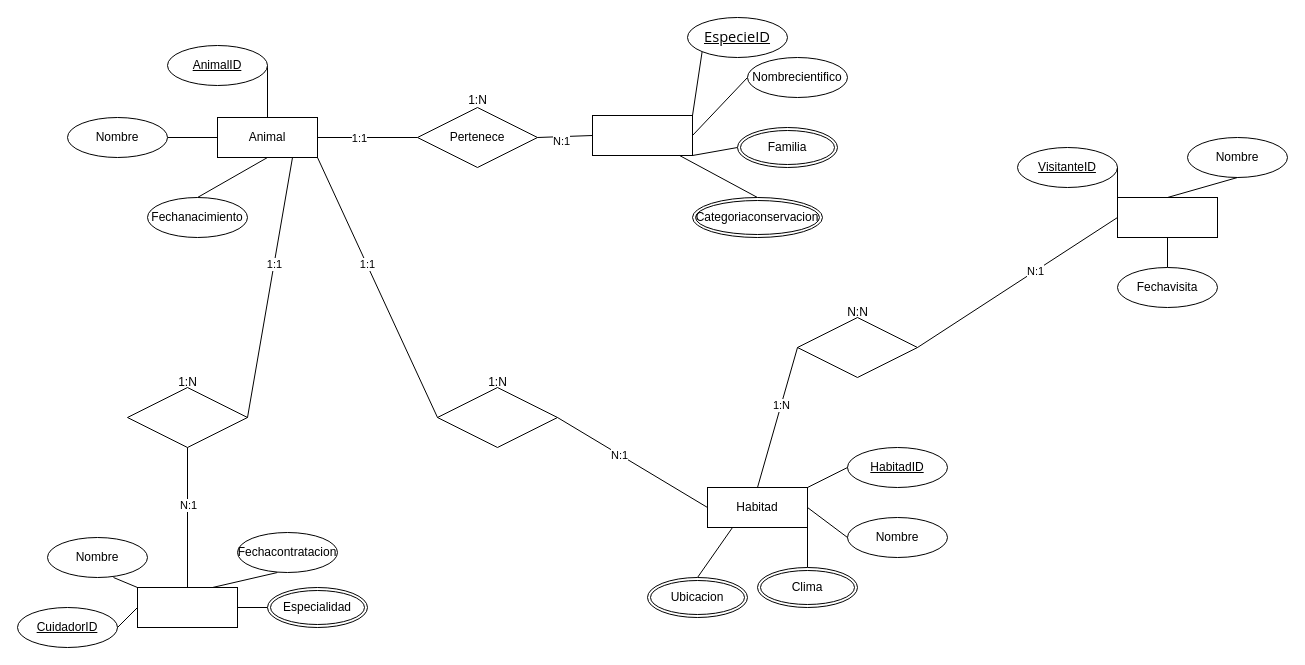
Some shapes in this 1305 by 665 pixel diagram are drawn without their labels. The centre of each missing label's shape, as x and y in pixels:
Alberga: (497,417)
Cargo: (187,417)
Cuidador: (187,607)
Especie: (642,135)
Visita: (857,347)
Visitantes: (1167,217)
